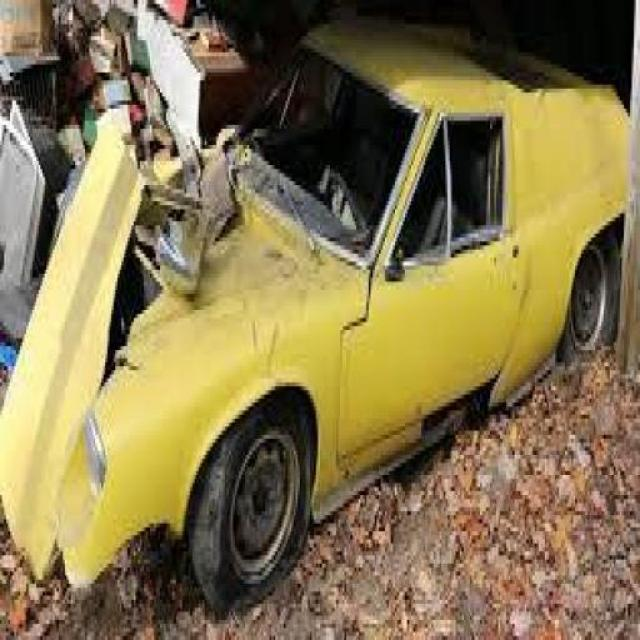crush: (0, 99, 350, 552)
